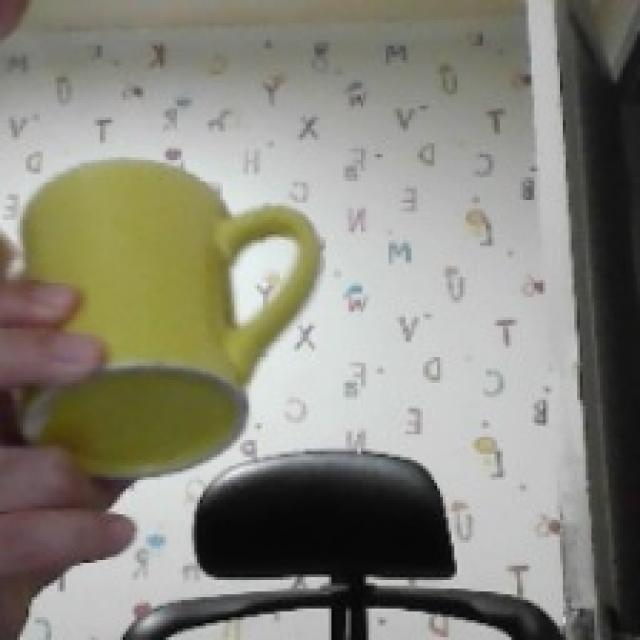cup: (20, 160, 320, 477)
